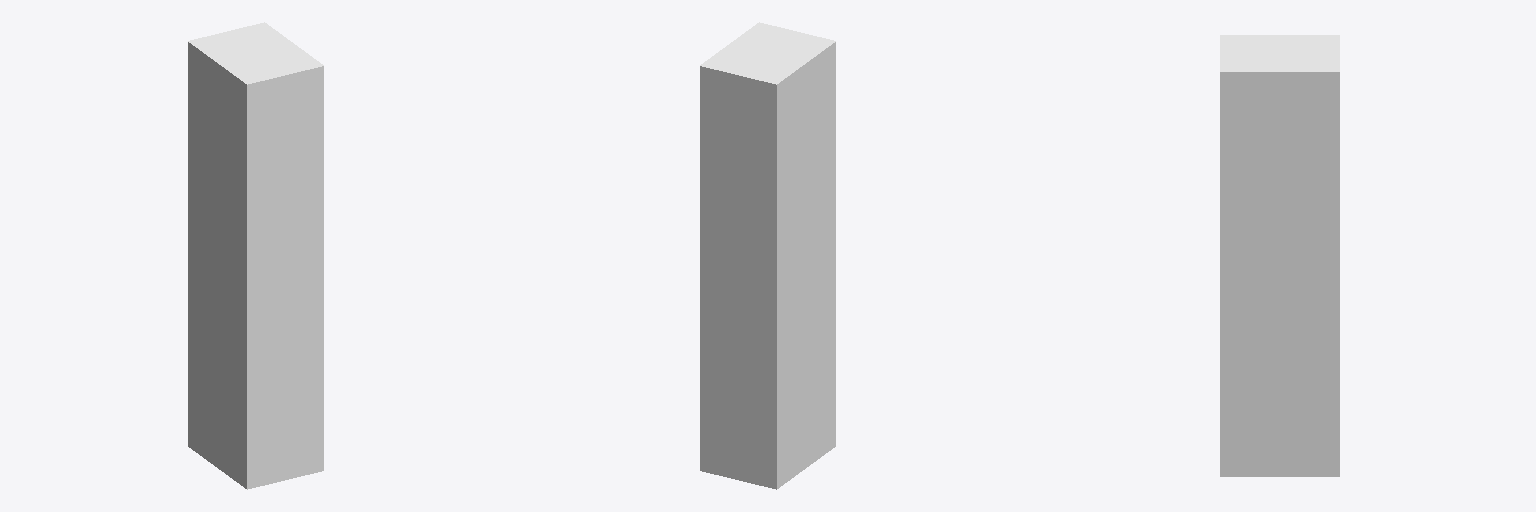
Rendered from Fence-(Post).obj.
3 renders of one model, left to right at view 1: azimuth 30°, elevation 25°; view 2: azimuth 150°, elevation 25°; view 3: azimuth 270°, elevation 25°, orthographic.
Visible parts, largest first — view 1: object 1; view 2: object 1; view 3: object 1.
Boxes of the visible parts, x1=… form: object 1: x1=188, y1=22, x2=323, y2=489; object 1: x1=700, y1=22, x2=835, y2=489; object 1: x1=1220, y1=35, x2=1339, y2=476.
Bounding box in the file's own units: 0.3 × 1.5 × 0.4.